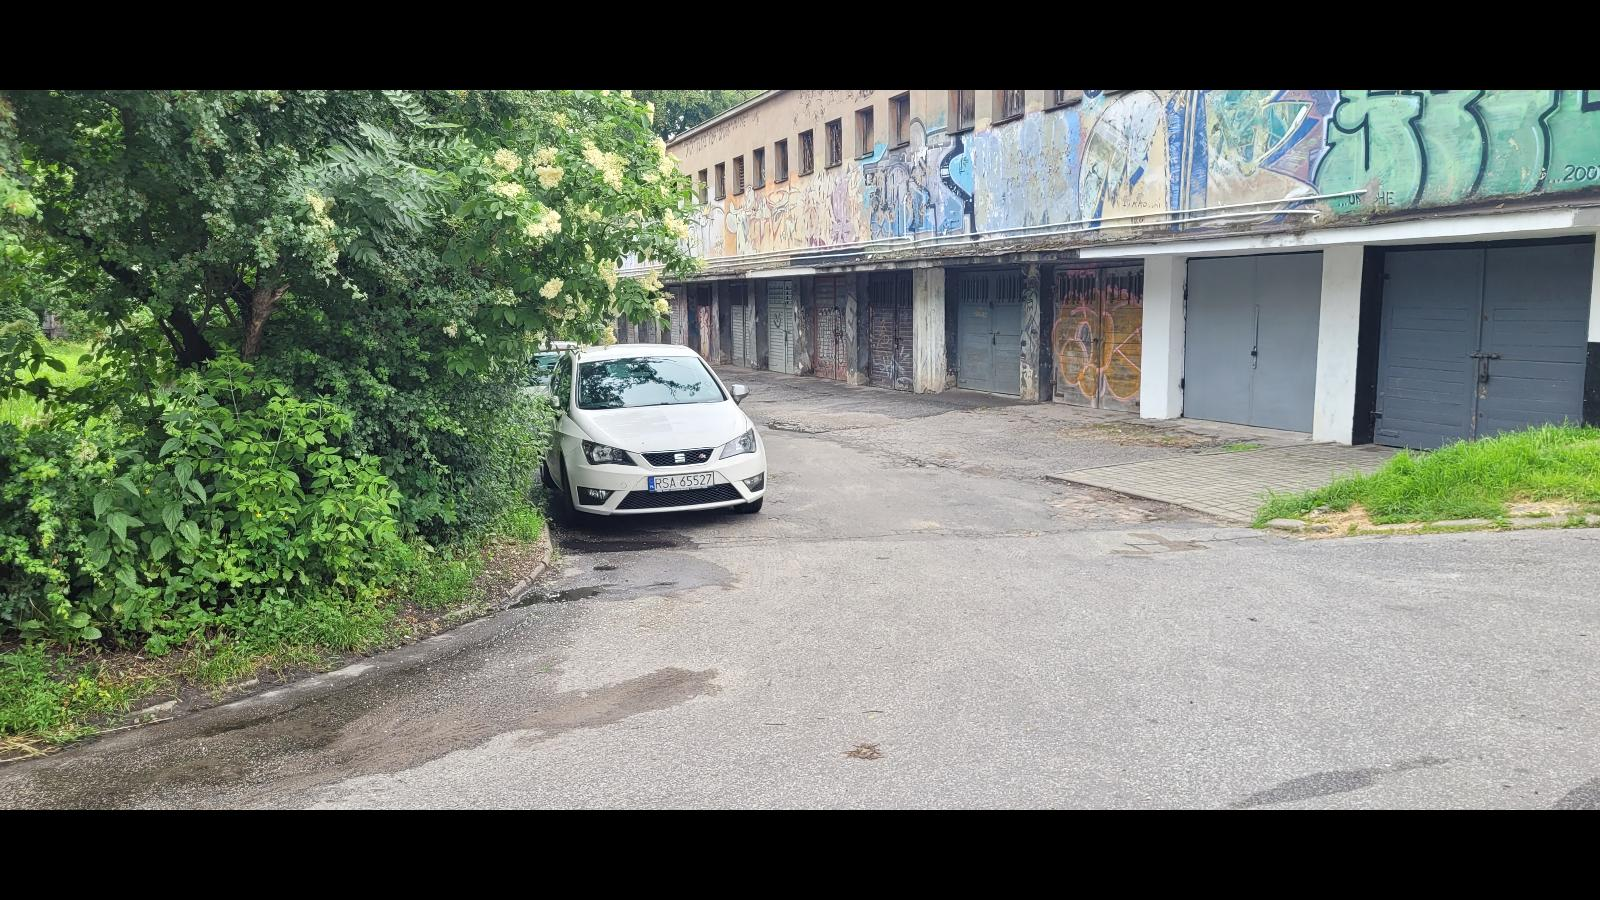plates: (648, 471, 714, 494)
